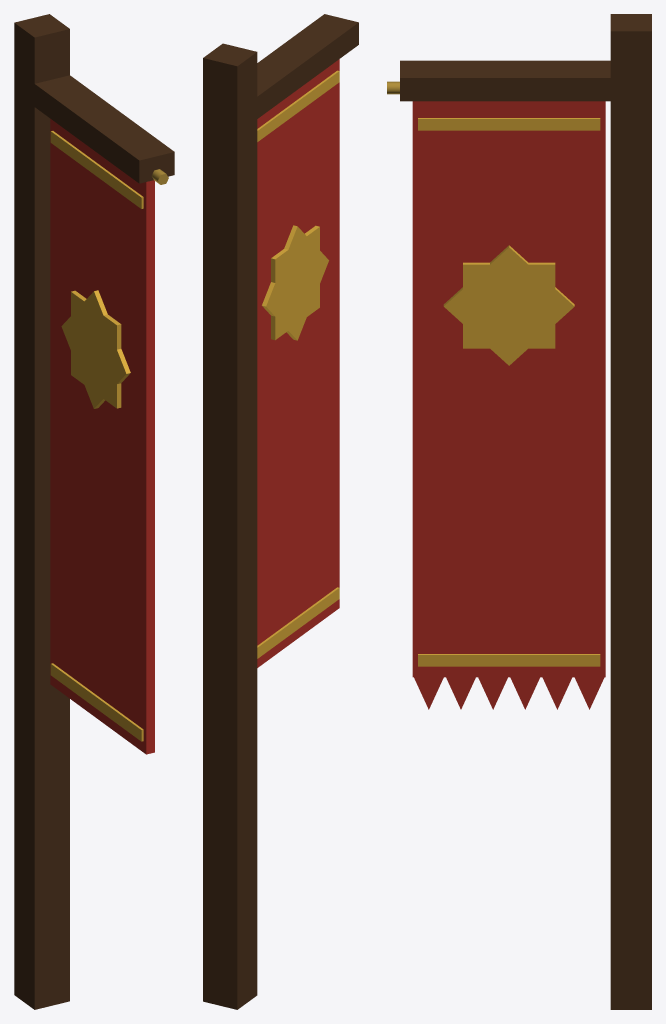
The model's file is dc_banner.glb.
3 renders of one model, left to right at view 1: azimuth 30°, elevation 25°; view 2: azimuth 150°, elevation 25°; view 3: azimuth 270°, elevation 25°, orthographic. The views are drawn at different scales.
Parts seen in each view (by area): view 1: dc_banner; view 2: dc_banner; view 3: dc_banner.
Boxes of the visible parts, <box> form: dc_banner: <box>14,14,174,1009</box>; dc_banner: <box>203,14,358,1009</box>; dc_banner: <box>387,14,651,1009</box>.
Size of the model in its own units: 0.16 by 4.2 by 1.03.
